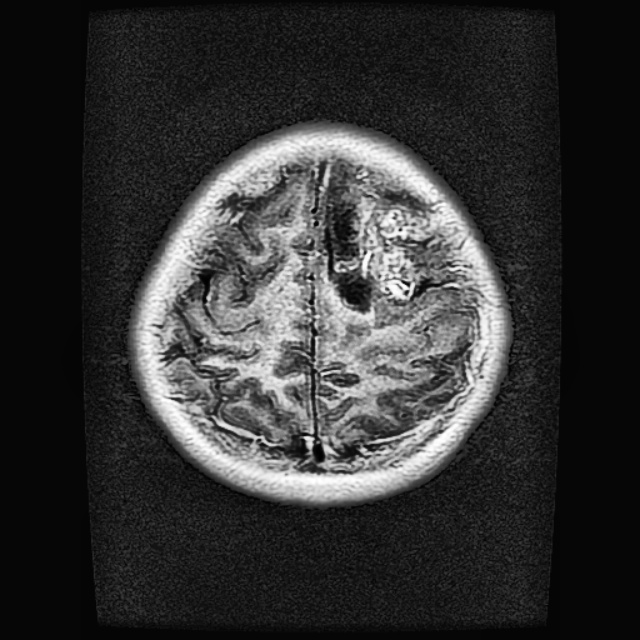Pituitary: (327, 159, 449, 312)
